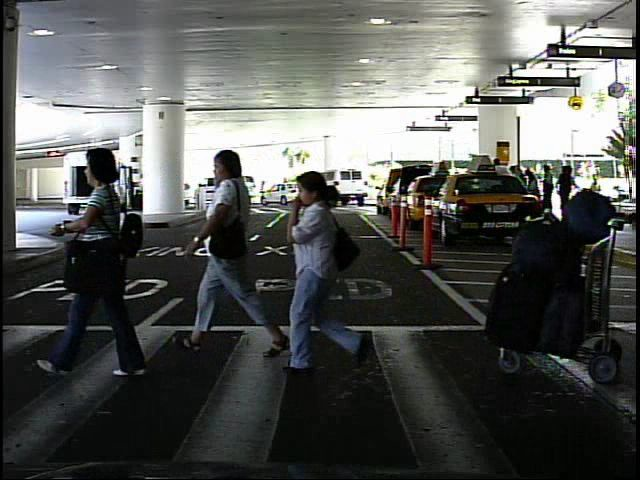person: (49, 134, 156, 382), (268, 160, 378, 381), (176, 138, 284, 360), (100, 172, 118, 222), (587, 172, 606, 218), (257, 178, 268, 204)
